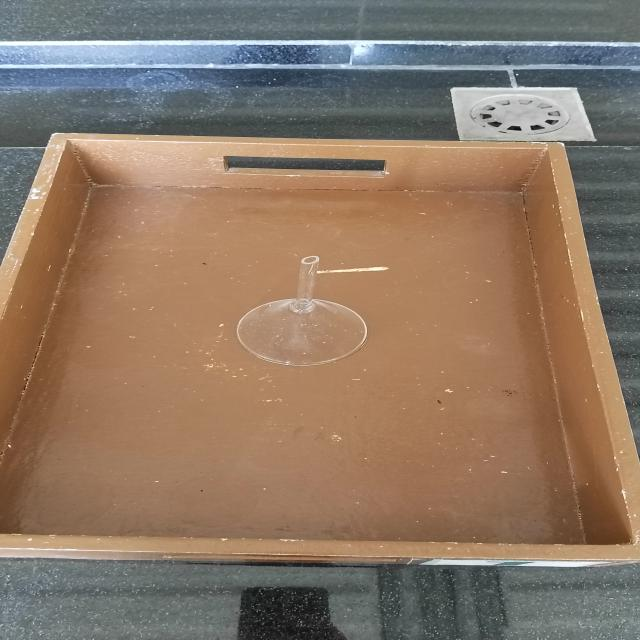funnel: (222, 250, 378, 370)
